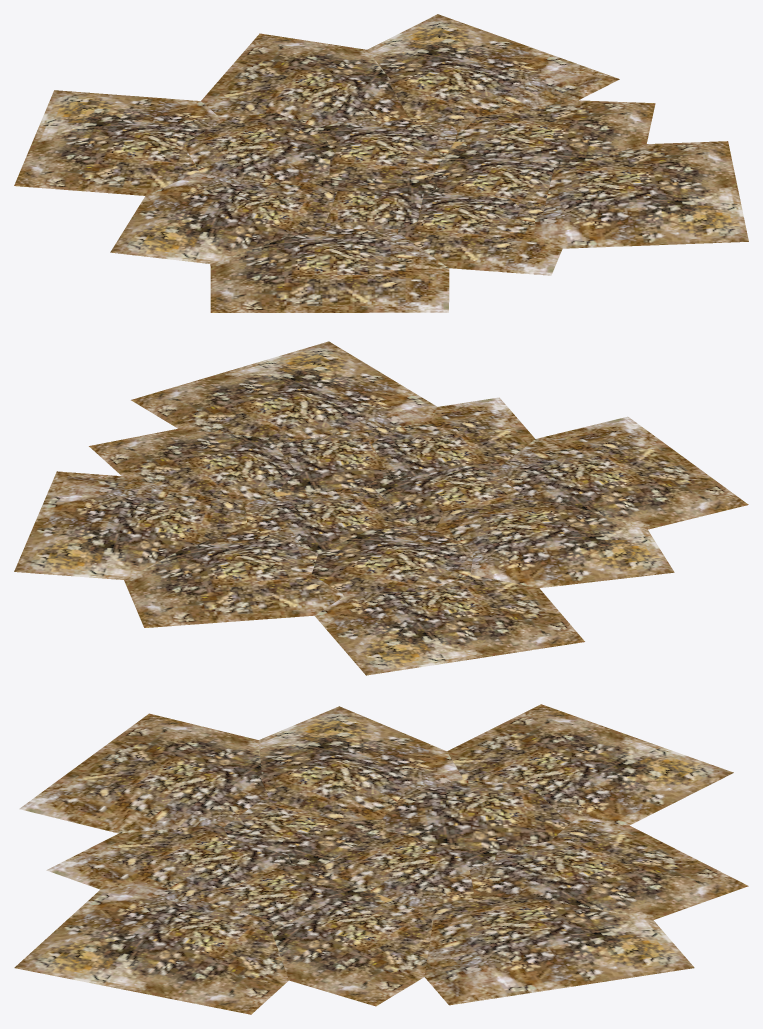
Rendered from destruction_extra_large_base.glb.
3 renders of one model, top to bottom at view 1: azimuth 30°, elevation 25°; view 2: azimuth 150°, elevation 25°; view 3: azimuth 270°, elevation 25°, orthographic. The views are drawn at different scales.
Visible parts, largest first — view 1: MeshRoot; view 2: MeshRoot; view 3: MeshRoot.
Part boxes in pixels (x1,y1,x2,y2): MeshRoot: [14, 14, 748, 312]; MeshRoot: [14, 341, 748, 675]; MeshRoot: [14, 704, 748, 1014].
Bounding box in the file's own units: 18.69 × 0.377 × 18.69.
Materials: 1 (1 with a texture image).
